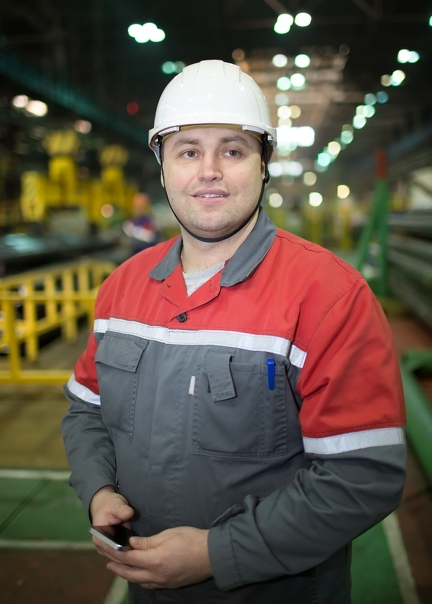person: (59, 60, 405, 604)
